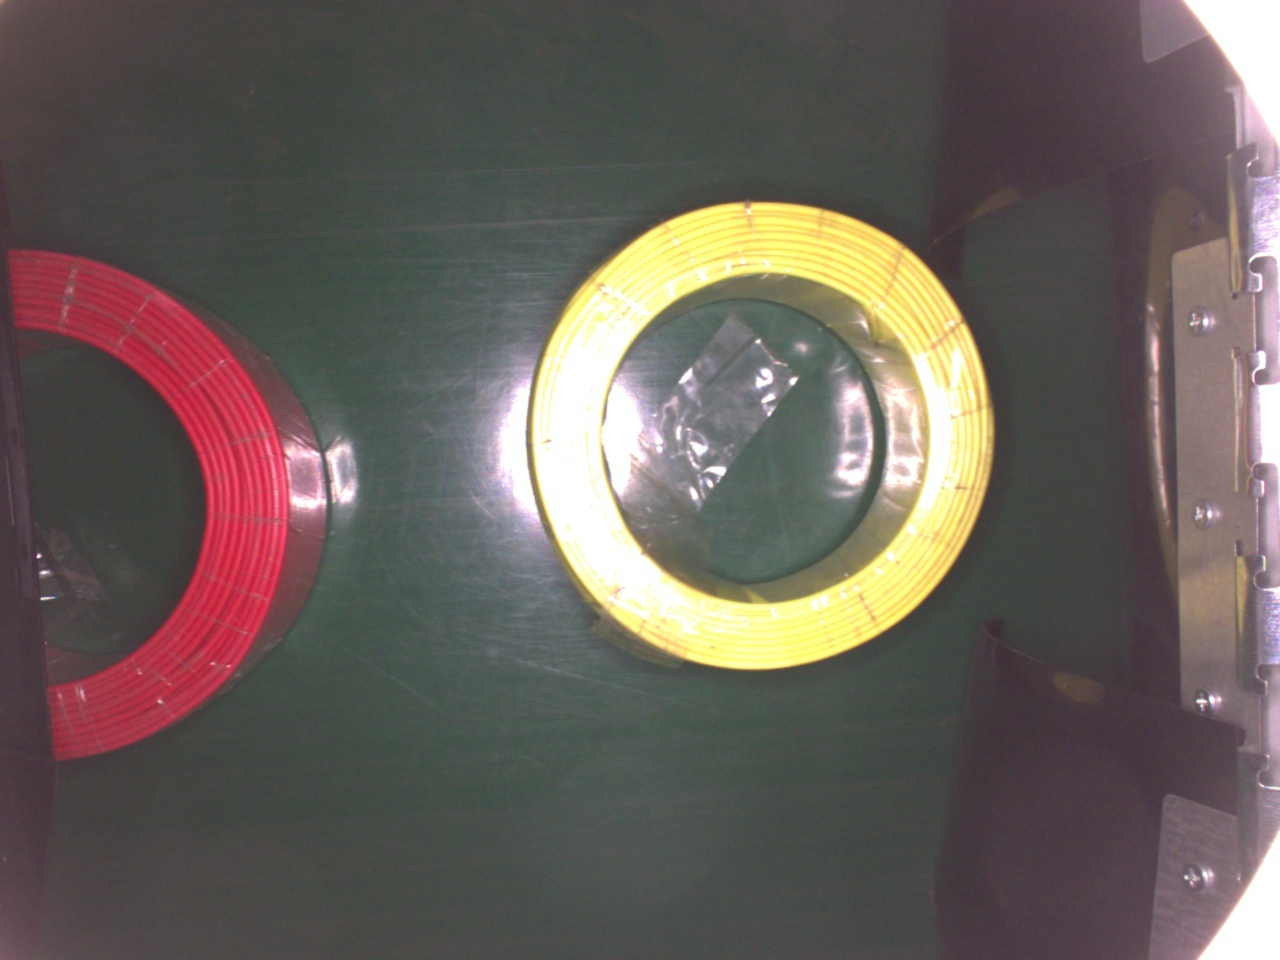red: (6, 244, 326, 762)
yellow: (527, 198, 997, 670)
